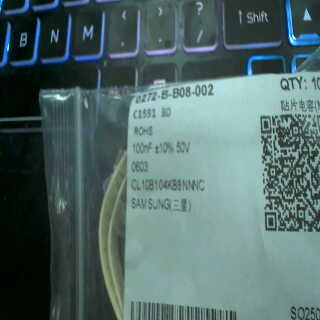100nF: (132, 138, 157, 156)
